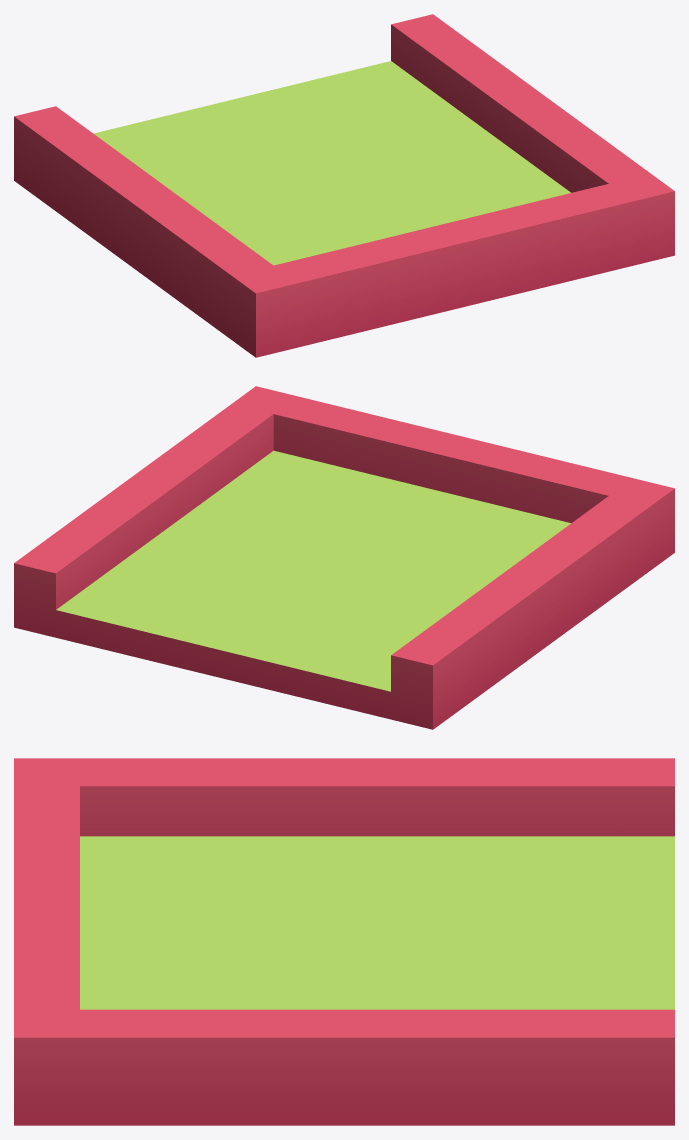
File: end.gltf
The picture shows the model from 3 angles, top to bottom: view 1: azimuth 30°, elevation 25°; view 2: azimuth 150°, elevation 25°; view 3: azimuth 270°, elevation 25°; orthographic projection. The views are drawn at different scales.
Parts seen in each view (by area): view 1: end; view 2: end; view 3: end.
Boxes of the visible parts, <box> form: end: <box>14,14,674,357</box>; end: <box>14,386,674,729</box>; end: <box>14,758,674,1125</box>.
Size of the model in its own units: 0.9999 by 0.1467 by 0.9999.
1 material, 1 textured.
